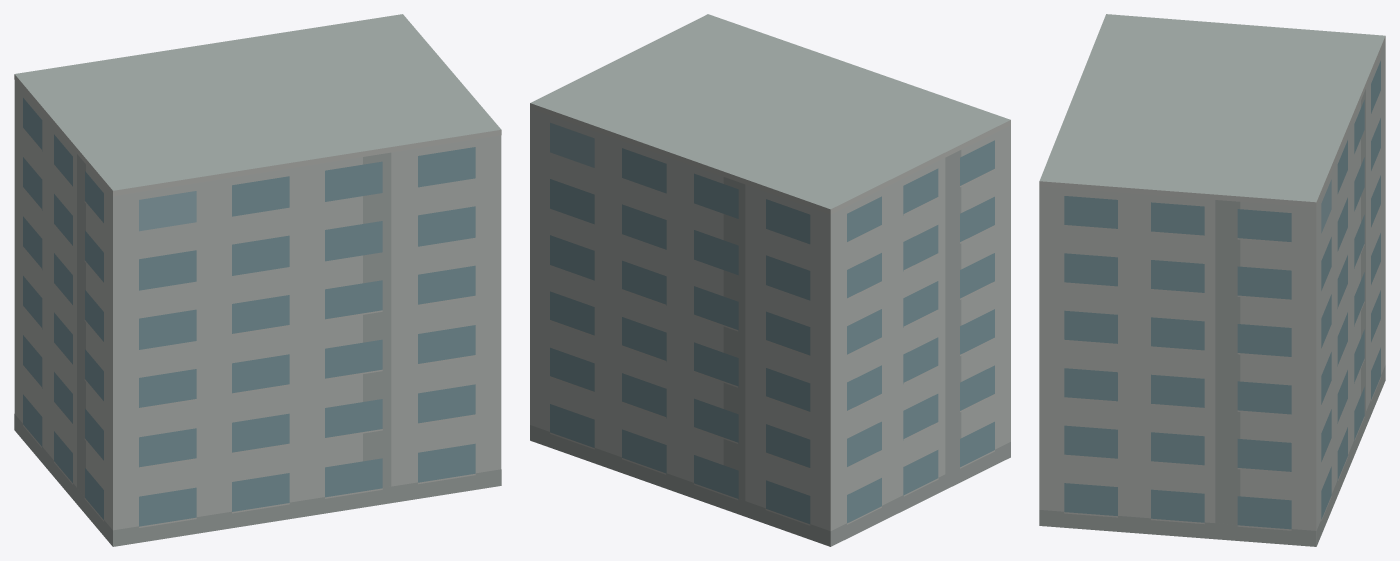
The model's file is survey-upis-33005308.glb.
The picture shows the model from 3 angles, left to right: view 1: azimuth 30°, elevation 25°; view 2: azimuth 150°, elevation 25°; view 3: azimuth 270°, elevation 25°; orthographic projection. The views are drawn at different scales.
Visible parts, largest first — view 1: survey-upis-33005308.tmp; view 2: survey-upis-33005308.tmp; view 3: survey-upis-33005308.tmp.
Boxes of the visible parts, box(x1,y1,x2,y2) form: survey-upis-33005308.tmp: box(14, 14, 501, 546); survey-upis-33005308.tmp: box(530, 14, 1010, 546); survey-upis-33005308.tmp: box(1039, 14, 1385, 546).
Bounding box in the file's own units: 18.4 × 15.7 × 14.3.
